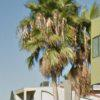Palm tree: (17, 1, 86, 90)
